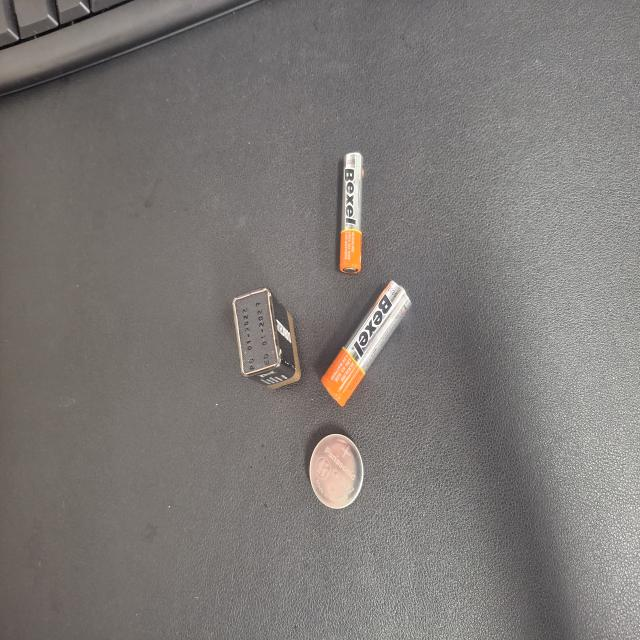9V: (191, 311, 264, 397)
AA: (176, 428, 270, 548)
AAA: (274, 447, 366, 484)
COIN: (99, 413, 154, 484)
